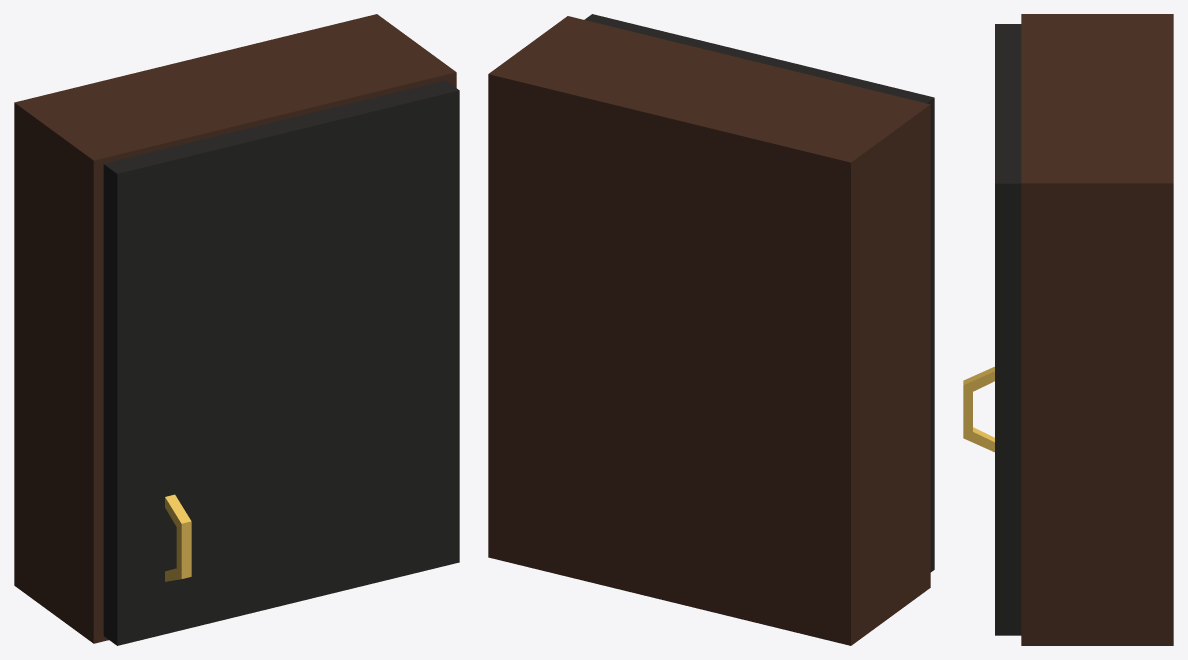
The model's file is Cupboard_4_2.fbx.
3 renders of one model, left to right at view 1: azimuth 30°, elevation 25°; view 2: azimuth 150°, elevation 25°; view 3: azimuth 270°, elevation 25°, orthographic. The views are drawn at different scales.
Parts seen in each view (by area): view 1: polySurface1571; view 2: polySurface1571; view 3: polySurface1571.
Part boxes in pixels (left/top/right/bottom): polySurface1571: left=14, top=14, right=459, bottom=645; polySurface1571: left=488, top=14, right=934, bottom=645; polySurface1571: left=963, top=14, right=1173, bottom=645.
Size of the model in its own units: 0.918 by 1.17 by 0.4813.
Materials: 1 (1 with a texture image).
